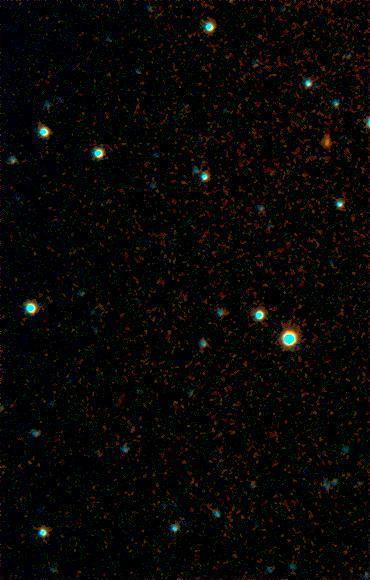star: (312, 129, 342, 159)
